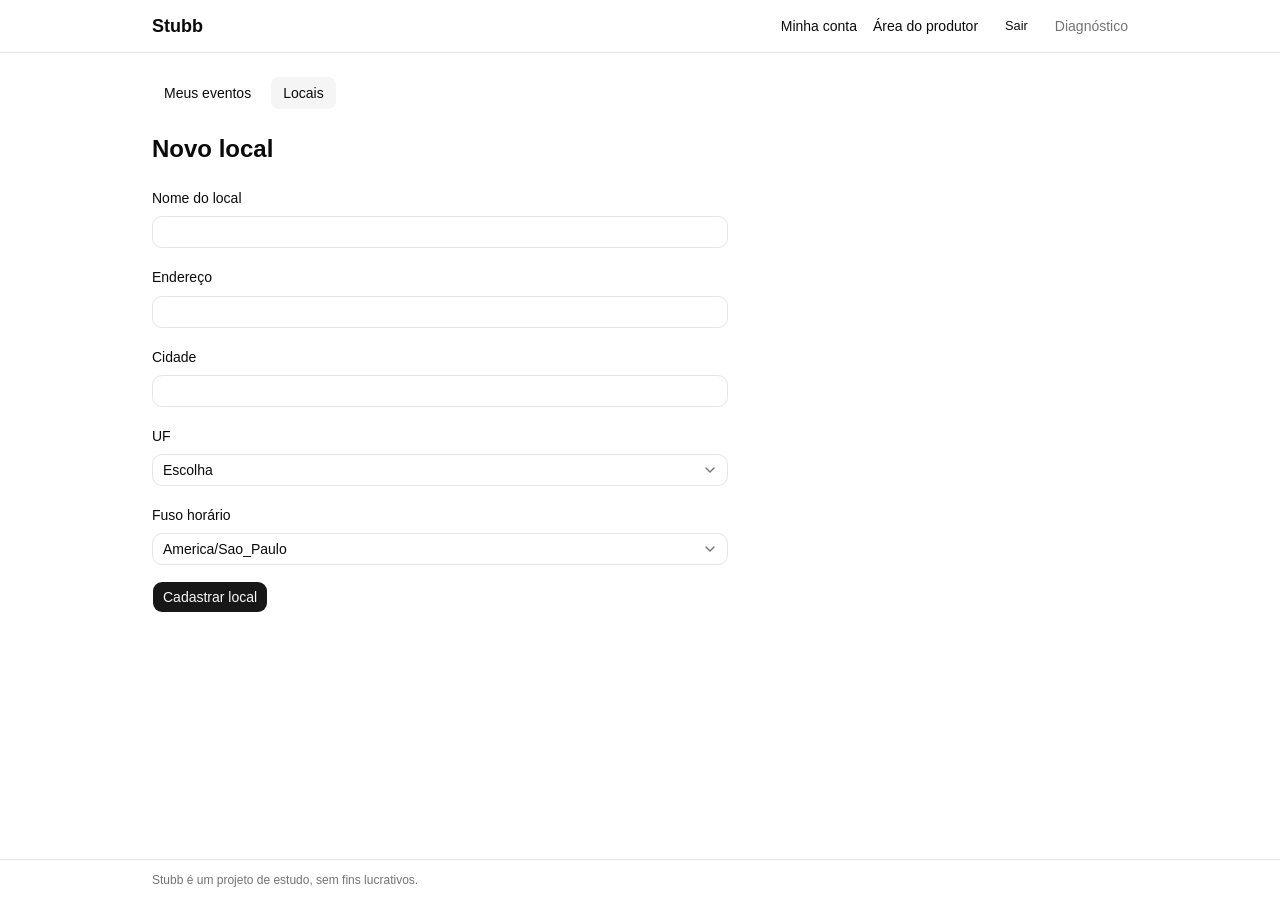
locais do produtor › cadastro vazio mostra erros nos campos, com aria-invalid e foco no primeiro
Click the button "Cadastrar local" at (210, 597), box [152,581,268,613]
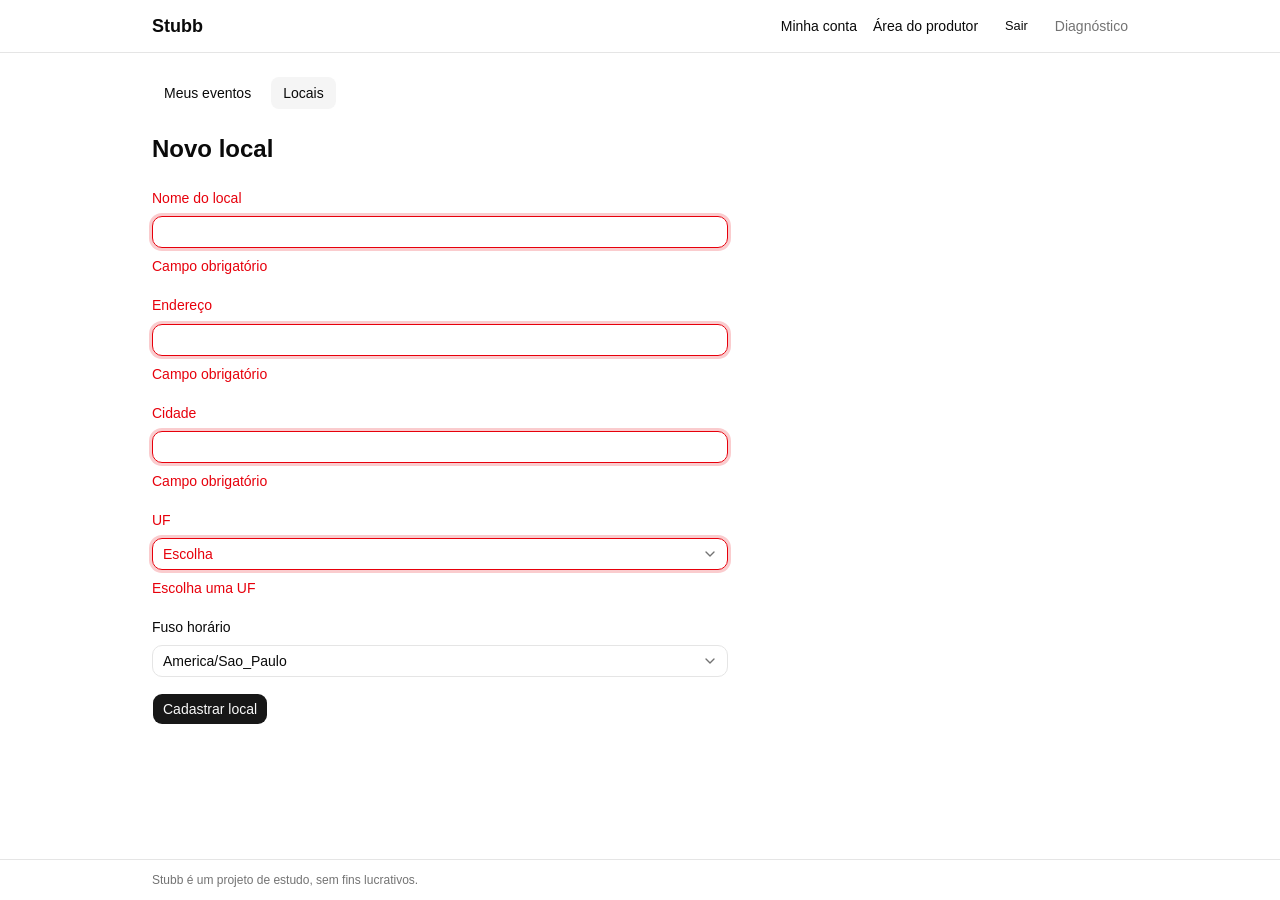
Expected: the text "Escolha uma UF" is shown, [152,580,256,596]
